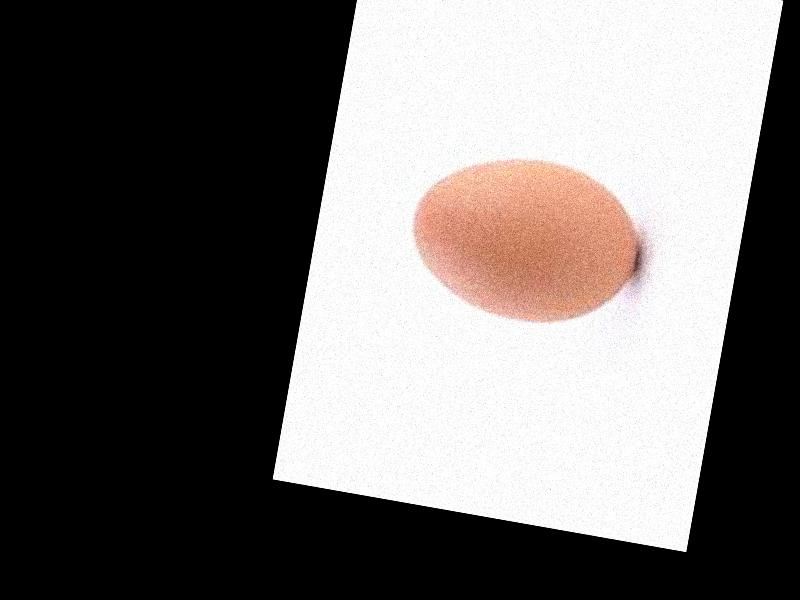Eggs: (399, 141, 649, 340)
